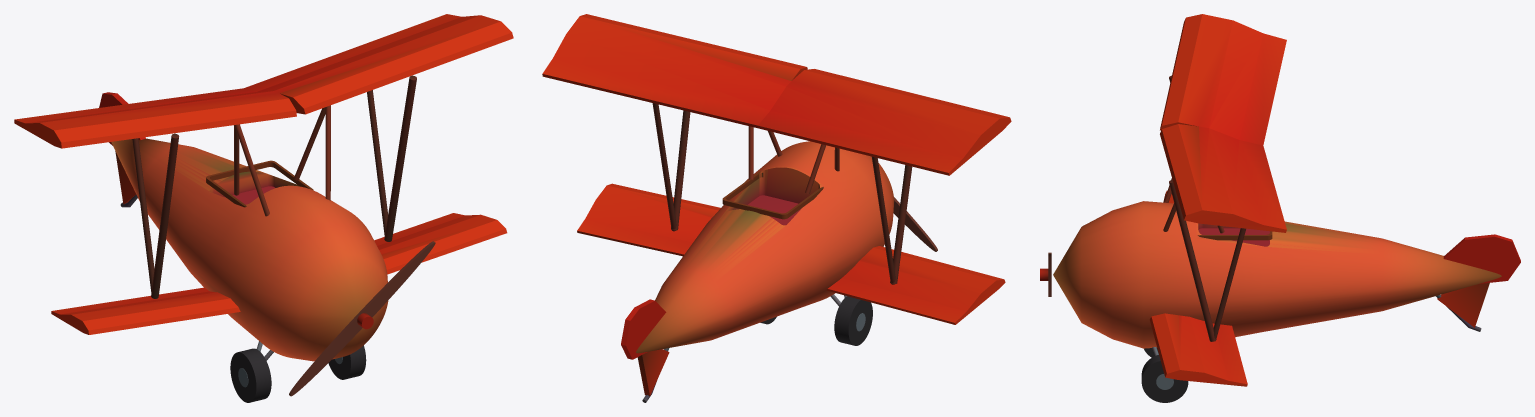
3 renders of one model, left to right at view 1: azimuth 30°, elevation 25°; view 2: azimuth 150°, elevation 25°; view 3: azimuth 270°, elevation 25°, orthographic. The views are drawn at different scales.
Visible parts, largest first — view 1: body, airfoil.001, airfoil, blade, tire.001, forward, forward.001, aft.001, aft, rim, tire, cabane.001 (+2 smaller); view 2: airfoil.001, body, airfoil, fin, tire.001, rim, ventral_tail, forward, forward.001, aft, aft.001, blade; view 3: body, airfoil.001, airfoil, fin, ventral_tail, tire, forward, aft.
Boxes of the visible parts, bbox=[...] form: body: bbox=[111, 138, 388, 361]; airfoil.001: bbox=[14, 14, 513, 148]; airfoil: bbox=[51, 213, 507, 334]; blade: bbox=[289, 241, 435, 396]; tire.001: bbox=[230, 348, 271, 402]; forward: bbox=[384, 75, 416, 241]; forward.001: bbox=[151, 133, 179, 298]; aft.001: bbox=[132, 138, 154, 292]; aft: bbox=[367, 90, 387, 235]; rim: bbox=[206, 160, 313, 207]; tire: bbox=[328, 345, 366, 379]; cabane.001: bbox=[234, 124, 269, 216]; airfoil.001: bbox=[542, 14, 1011, 175]; body: bbox=[636, 141, 894, 353]; airfoil: bbox=[577, 183, 1005, 324]; fin: bbox=[621, 299, 666, 359]; tire.001: bbox=[834, 296, 872, 345]; rim: bbox=[722, 171, 823, 219]; ventral_tail: bbox=[637, 349, 669, 396]; forward: bbox=[671, 110, 690, 230]; forward.001: bbox=[890, 165, 912, 283]; aft: bbox=[652, 103, 676, 231]; aft.001: bbox=[872, 156, 895, 284]; blade: bbox=[893, 197, 937, 251]; body: bbox=[1053, 201, 1501, 348]; airfoil.001: bbox=[1160, 14, 1286, 232]; airfoil: bbox=[1149, 190, 1247, 386]; fin: bbox=[1443, 234, 1520, 283]; ventral_tail: bbox=[1437, 283, 1489, 327]; tire: bbox=[1141, 355, 1188, 402]; forward: bbox=[1169, 179, 1216, 341]; aft: bbox=[1213, 228, 1245, 341].
Size of the model in its own units: 9.84 by 6.17 by 10.08.
